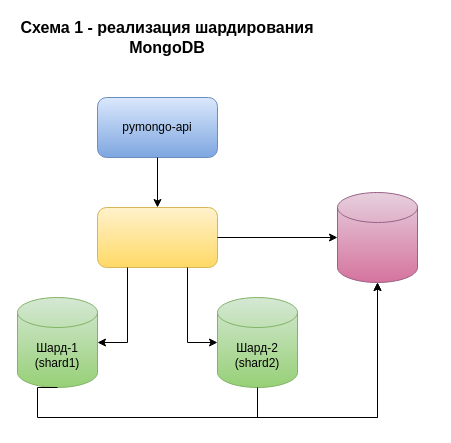
This 451x443 diagram has some shape labels left out. Here are the shapes that lost their labels. From the top down, the box of each, then its label:
(96, 206, 218, 268): Роутер (mongos)
(336, 192, 418, 282): Конфигурационный сервер (configSrv)
